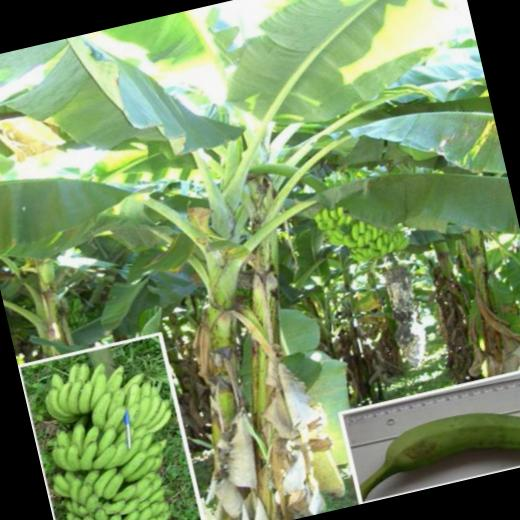Banana: (17, 329, 210, 520), (349, 391, 520, 499), (302, 156, 415, 272)
